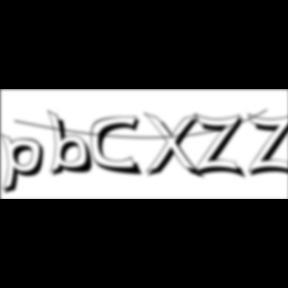C: (92, 115, 146, 178)
X: (143, 112, 207, 182)
Z: (195, 112, 250, 181)
b: (46, 109, 100, 179)
p: (0, 132, 50, 198)
